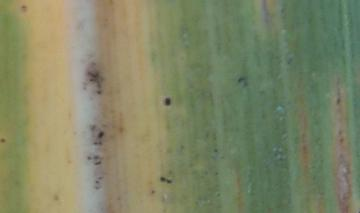tarspot: (86, 66, 104, 94), (86, 154, 103, 166), (235, 75, 249, 89), (162, 95, 173, 108), (19, 4, 28, 14), (96, 130, 105, 139), (158, 175, 166, 184), (165, 178, 173, 185), (1, 136, 8, 144)
